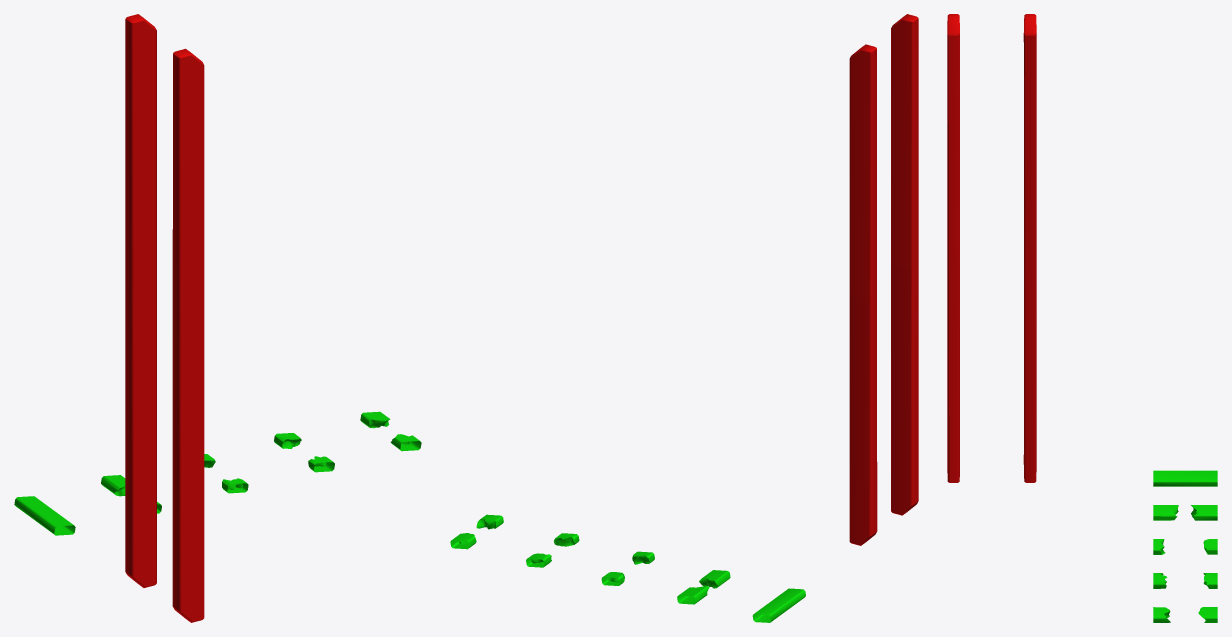
File: BAKE_Ladder_Broken_low.fbx
3 renders of one model, left to right at view 1: azimuth 30°, elevation 25°; view 2: azimuth 150°, elevation 25°; view 3: azimuth 270°, elevation 25°, orthographic. The views are drawn at different scales.
Parts seen in each view (by area): view 1: material2; view 2: material2; view 3: material2.
Part boxes in pixels (x1,y1,x2,y2): material2: (14,14,421,622); material2: (450,14,918,622); material2: (947,14,1217,622).
Bounding box in the file's own units: 214 × 318 × 168.
